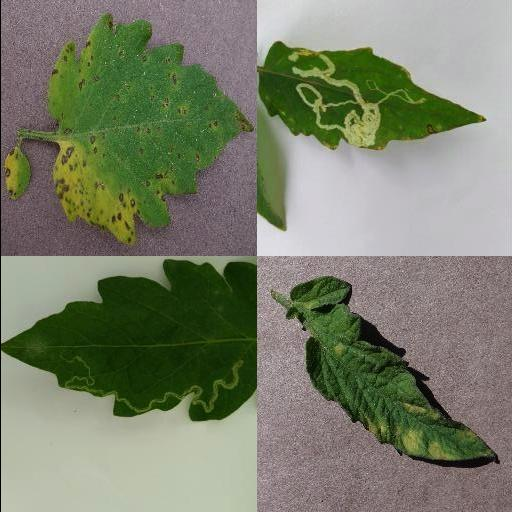Leaf Miner: (0, 259, 256, 424), (256, 40, 489, 153)
Leaf Mold: (289, 276, 497, 462)
Septoria: (46, 13, 254, 248), (2, 144, 32, 202)
